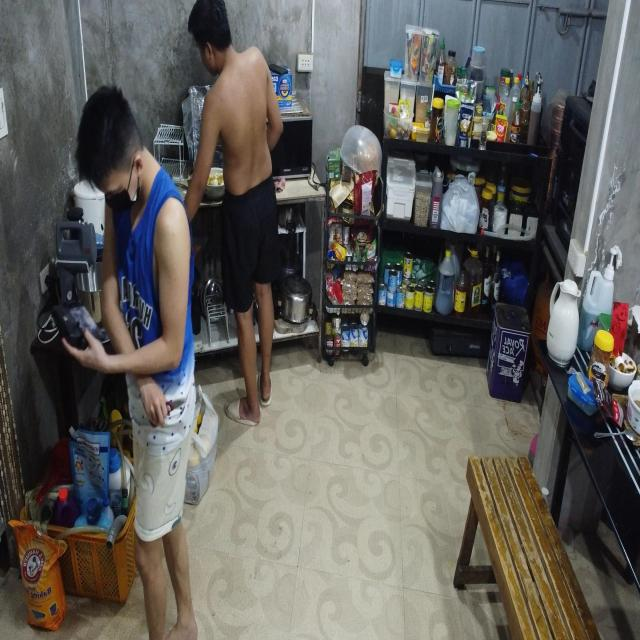scissor: (148, 399, 186, 428)
